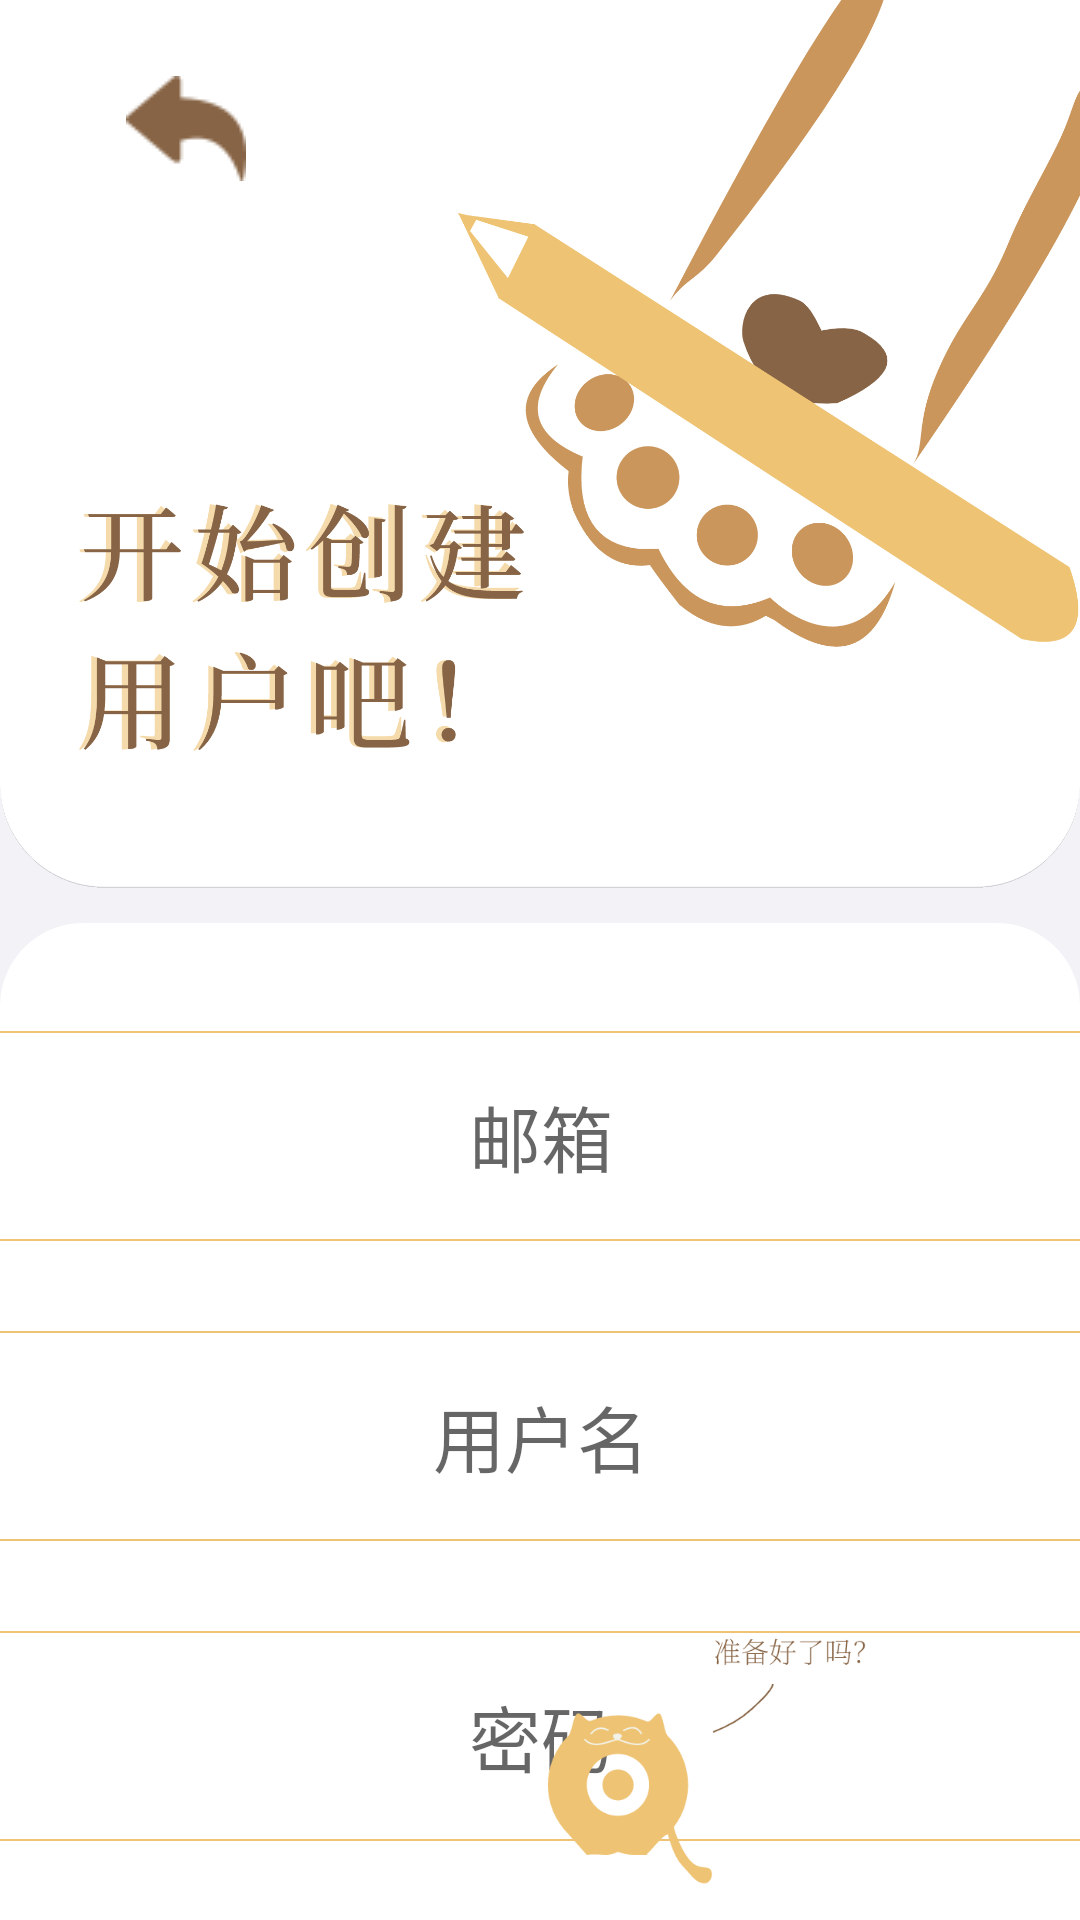

Named icons in this screenshot (1080x1920) and their centers, [x,y]:
back: [186,128]
